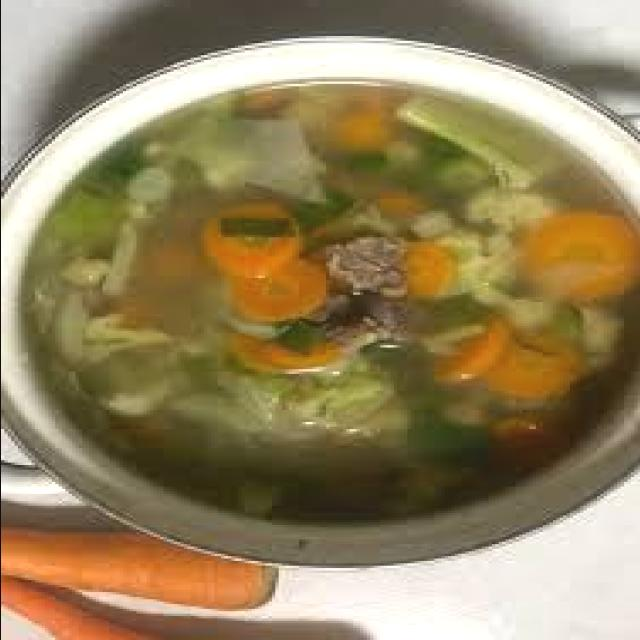sop: (34, 55, 640, 520)
